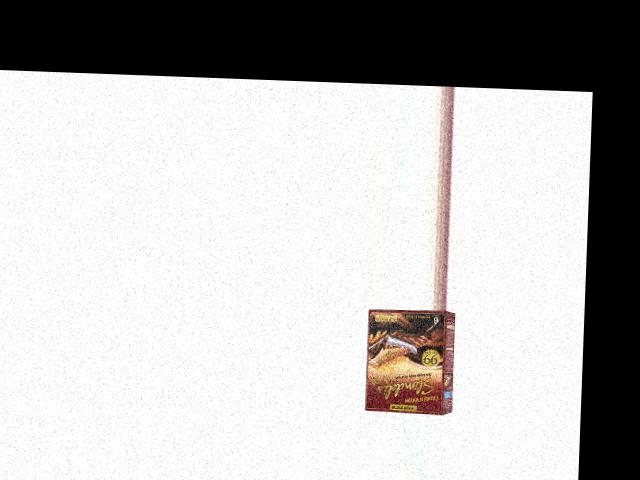chocolate: (355, 307, 461, 417)
